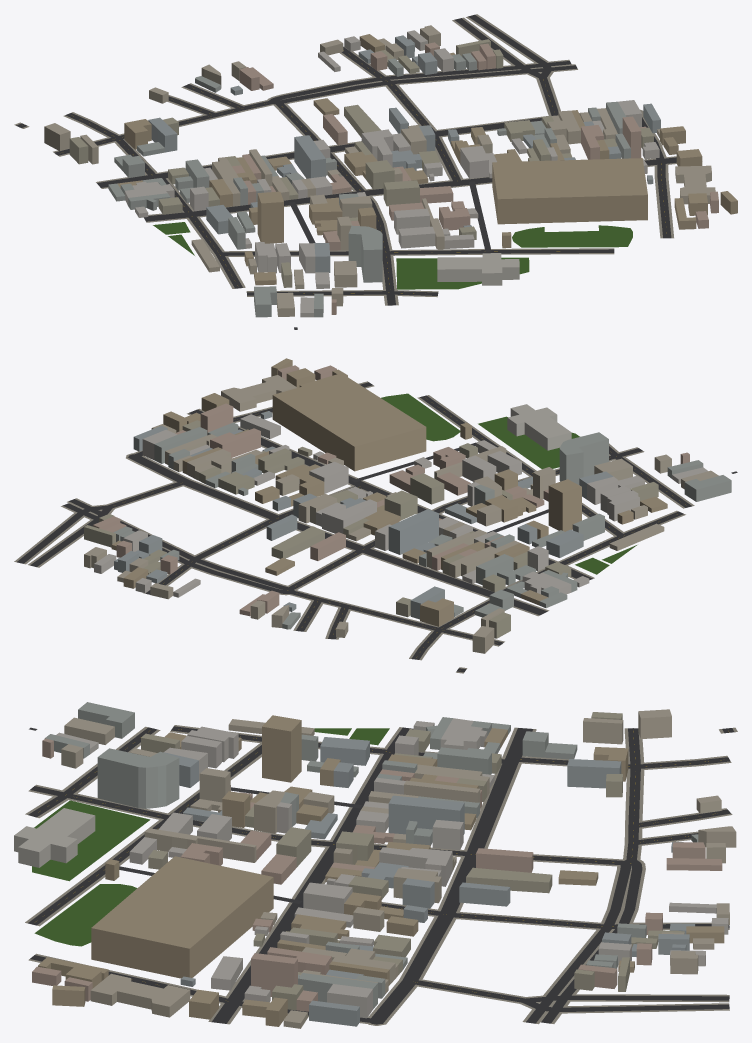
3 renders of one model, top to bottom at view 1: azimuth 30°, elevation 25°; view 2: azimuth 150°, elevation 25°; view 3: azimuth 270°, elevation 25°, orthographic. The views are drawn at different scales.
Visible parts, largest first — view 1: tile_0_0; view 2: tile_0_0; view 3: tile_0_0.
Boxes of the visible parts, left/top/right/bottom form: tile_0_0: left=14, top=14, right=737, bottom=329; tile_0_0: left=14, top=358, right=737, bottom=673; tile_0_0: left=14, top=702, right=737, bottom=1028.
Bounding box in the file's own units: 422 × 32.4 × 415.
